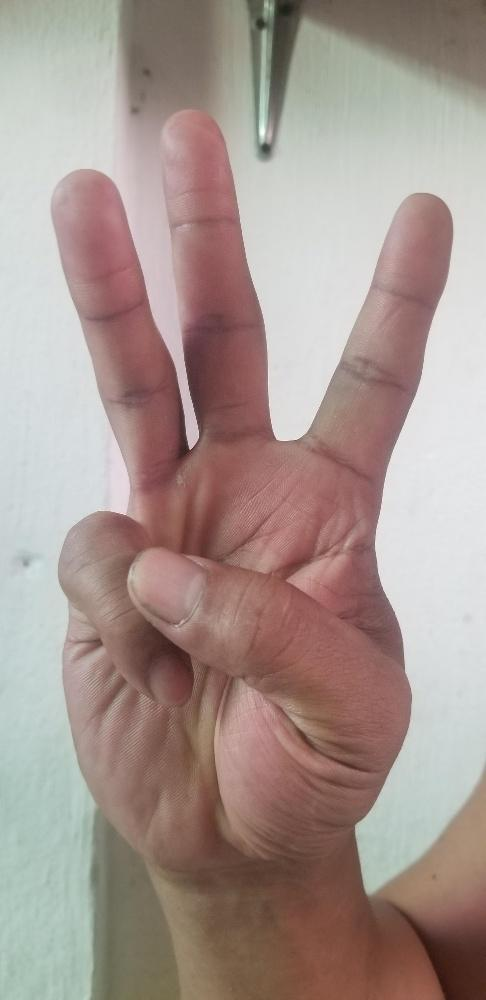w: (48, 106, 455, 846)
